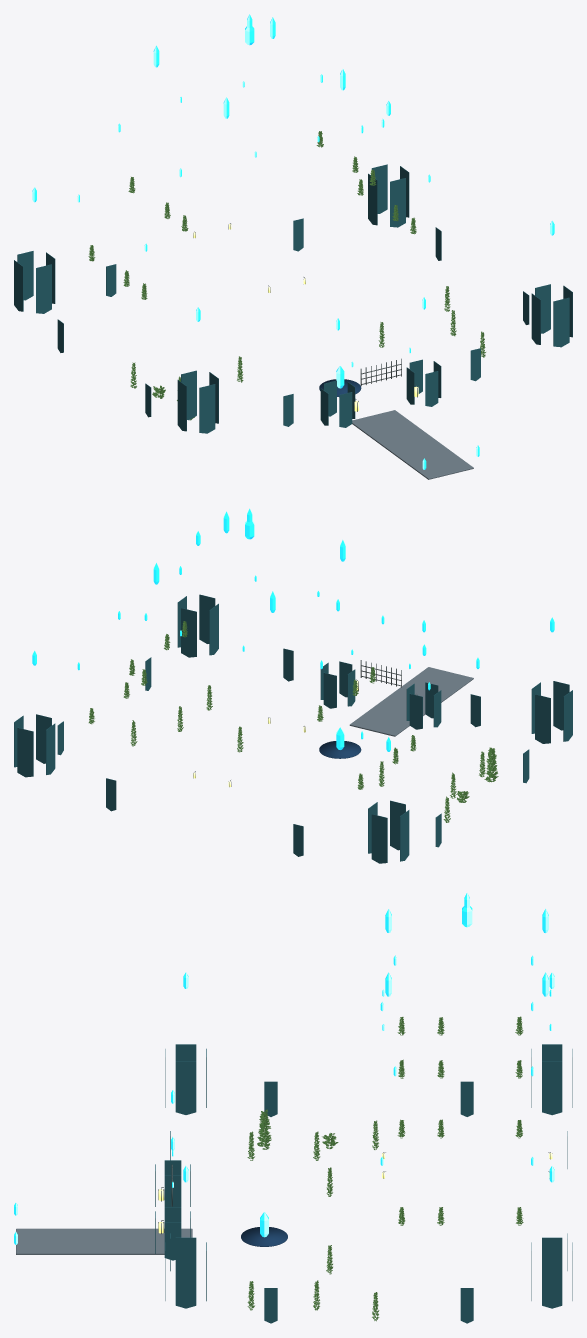
Rendered from Catalog-30.glb.
3 views of the same model, one above another, from view 1: azimuth 30°, elevation 25°; view 2: azimuth 150°, elevation 25°; view 3: azimuth 270°, elevation 25° (orthographic). The views are drawn at different scales.
Visible parts, largest first — view 1: Neris Teal Banner, Town Pavinglight, Royal Garden Deep Leaves (×2), Cyan Relay Crystal, Crystal Bright Facets; view 2: Neris Teal Banner, Town Pavinglight, Royal Garden Deep Leaves (×2), Cyan Relay Crystal, Royal Deep Blue Water; view 3: Neris Teal Banner, Town Pavinglight, Royal Garden Deep Leaves (×2), Cyan Relay Crystal, Crystal Bright Facets, Royal Deep Blue Water.
Boxes of the visible parts, bbox=[...] form: Neris Teal Banner: bbox=[14, 164, 572, 433]; Town Pavinglight: bbox=[352, 410, 473, 479]; Royal Garden Deep Leaves (×2): bbox=[88, 131, 485, 420]; Cyan Relay Crystal: bbox=[32, 14, 554, 469]; Crystal Bright Facets: bbox=[32, 15, 552, 469]; Neris Teal Banner: bbox=[14, 594, 572, 863]; Town Pavinglight: bbox=[349, 667, 473, 736]; Royal Garden Deep Leaves (×2): bbox=[88, 621, 498, 822]; Cyan Relay Crystal: bbox=[32, 508, 554, 751]; Royal Deep Blue Water: bbox=[319, 741, 361, 758]; Neris Teal Banner: bbox=[155, 1044, 572, 1323]; Town Pavinglight: bbox=[16, 1228, 192, 1254]; Royal Garden Deep Leaves (×2): bbox=[247, 1016, 523, 1321]; Cyan Relay Crystal: bbox=[14, 893, 554, 1244]; Crystal Bright Facets: bbox=[16, 892, 554, 1244]; Royal Deep Blue Water: bbox=[241, 1227, 287, 1246].
Size of the model in its own units: 76.38 by 59.13 by 85.5.
